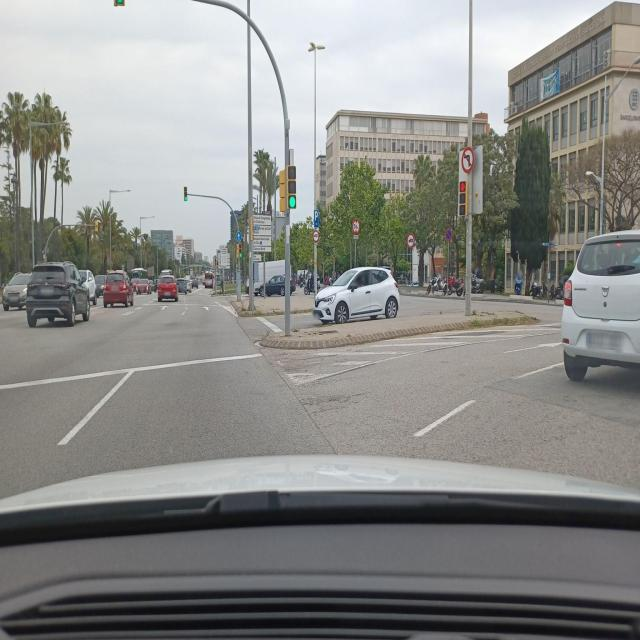bike: (443, 276, 462, 296), (305, 273, 318, 295), (473, 274, 485, 296)
car: (561, 226, 640, 388), (313, 265, 400, 325), (25, 260, 90, 328), (103, 270, 134, 308), (2, 272, 32, 311), (78, 269, 97, 307), (262, 273, 291, 297), (157, 274, 179, 303), (94, 274, 107, 297), (428, 275, 444, 293), (136, 278, 152, 295), (176, 276, 188, 294), (204, 274, 213, 288), (185, 278, 192, 293), (191, 276, 199, 288)
